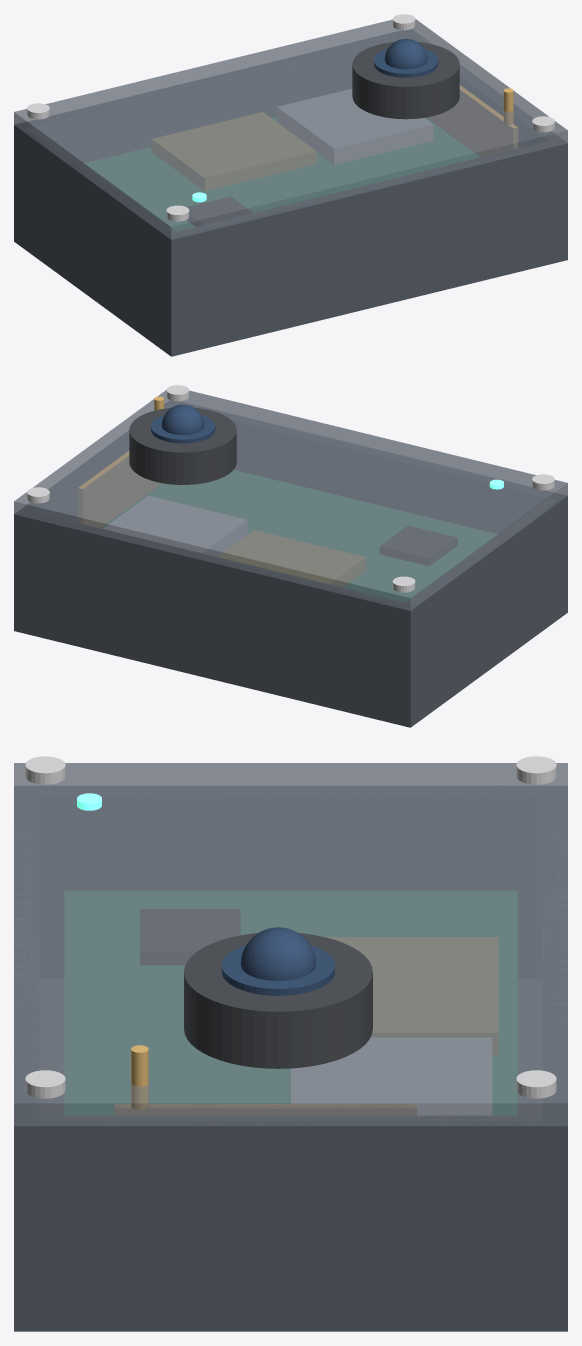
Rendered from FindingDevice3D.glb.
The picture shows the model from 3 angles, top to bottom: view 1: azimuth 30°, elevation 25°; view 2: azimuth 150°, elevation 25°; view 3: azimuth 270°, elevation 25°; orthographic projection. The views are drawn at different scales.
Visible parts, largest first — view 1: Enclosure_Base, Enclosure_Lid, PCB, GSM_Module, GPS_Module, Camera_Housing, Antenna, Camera_Lens, Microcontroller; view 2: Enclosure_Base, Enclosure_Lid, PCB, Camera_Housing, GPS_Module, GSM_Module, Antenna, Microcontroller, Camera_Lens; view 3: Enclosure_Base, Enclosure_Lid, PCB, Camera_Housing, GSM_Module, GPS_Module, Camera_Lens, Microcontroller, Antenna, Mounting_Screw_1, Mounting_Screw_2, Mounting_Screw_3 (+1 smaller).
Boxes of the visible parts, bbox=[...] form: Enclosure_Base: bbox=[14, 29, 567, 356]; Enclosure_Lid: bbox=[14, 19, 567, 239]; PCB: bbox=[84, 117, 479, 230]; GSM_Module: bbox=[152, 112, 315, 190]; GPS_Module: bbox=[277, 89, 432, 164]; Camera_Housing: bbox=[352, 42, 459, 119]; Antenna: bbox=[428, 85, 517, 156]; Camera_Lens: bbox=[374, 38, 438, 77]; Microcontroller: bbox=[187, 197, 252, 226]; Enclosure_Base: bbox=[14, 400, 567, 727]; Enclosure_Lid: bbox=[14, 390, 567, 610]; PCB: bbox=[102, 470, 497, 601]; Camera_Housing: bbox=[129, 407, 236, 484]; GPS_Module: bbox=[104, 496, 246, 556]; GSM_Module: bbox=[219, 530, 365, 586]; Antenna: bbox=[78, 396, 164, 527]; Microcontroller: bbox=[380, 526, 457, 565]; Camera_Lens: bbox=[151, 404, 215, 443]; Enclosure_Base: bbox=[14, 785, 567, 1331]; Enclosure_Lid: bbox=[14, 763, 567, 1126]; PCB: bbox=[65, 891, 516, 1114]; Camera_Housing: bbox=[184, 933, 372, 1068]; GSM_Module: bbox=[327, 937, 497, 1054]; GPS_Module: bbox=[291, 1038, 491, 1114]; Camera_Lens: bbox=[221, 927, 334, 995]; Microcontroller: bbox=[140, 909, 239, 964]; Antenna: bbox=[115, 1045, 416, 1114]; Mounting_Screw_1: bbox=[516, 756, 556, 784]; Mounting_Screw_2: bbox=[516, 1070, 556, 1098]; Mounting_Screw_3: bbox=[25, 756, 65, 784].
Size of the model in its own units: 6.4 by 2.86 by 4.4.
